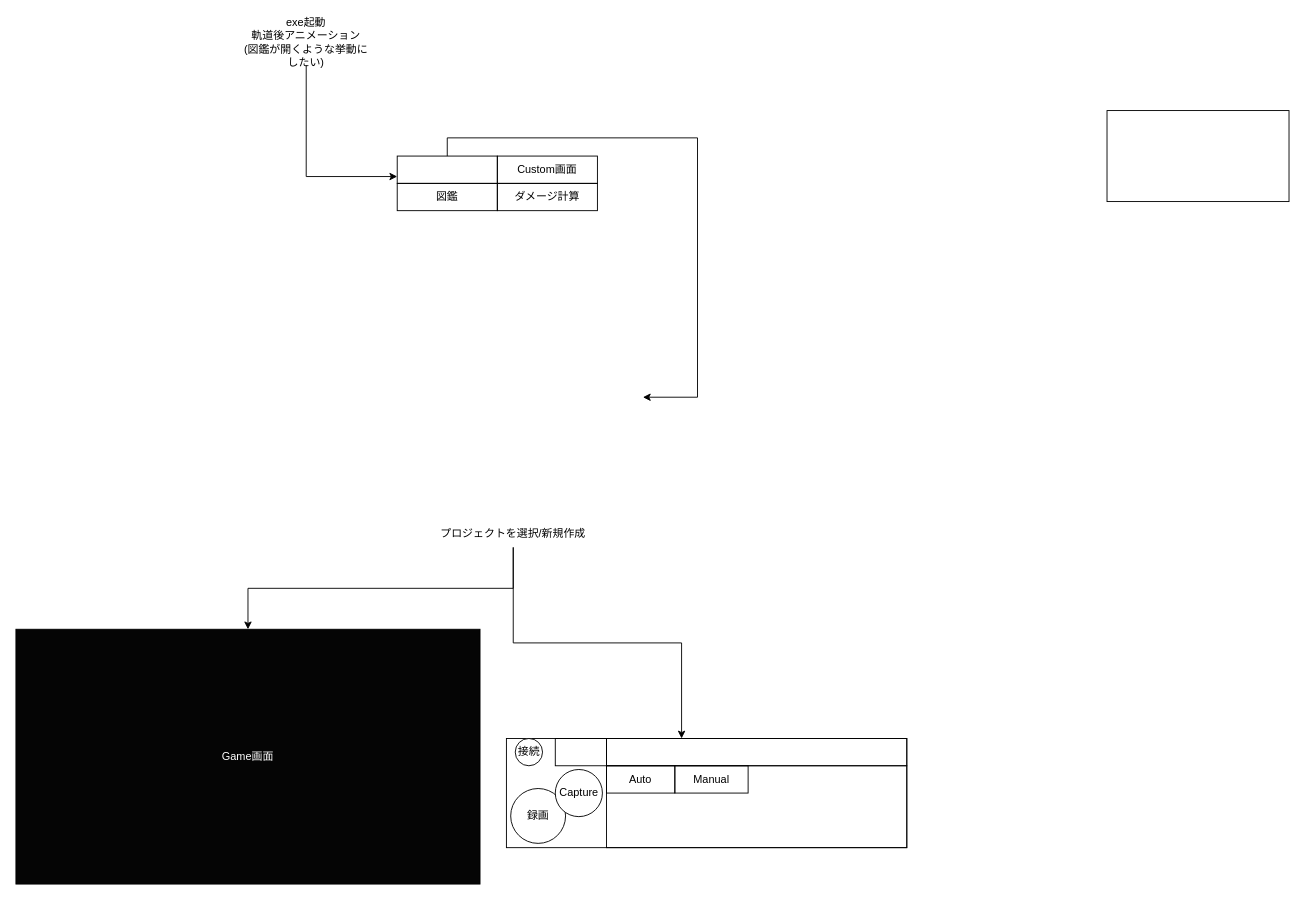
The diagram is 1305 pixels wide and 900 high, and some of its shapes have lost their labels. The shapes that lost their labels are listed below. From the top down, each one's box as (x1, y1, x2, y2) in pixels, then its label:
(396, 155, 497, 183): Game
(1106, 110, 1289, 202): Custom画面選択
(554, 738, 607, 766): フォルダ
(606, 738, 907, 766): Path
(606, 765, 907, 848): Controlker画面/Autoの設定画面
